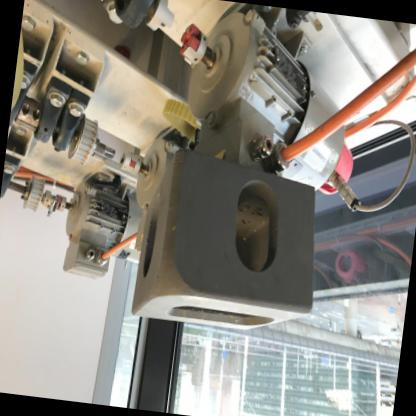CornerCasting: (128, 142, 330, 341)
